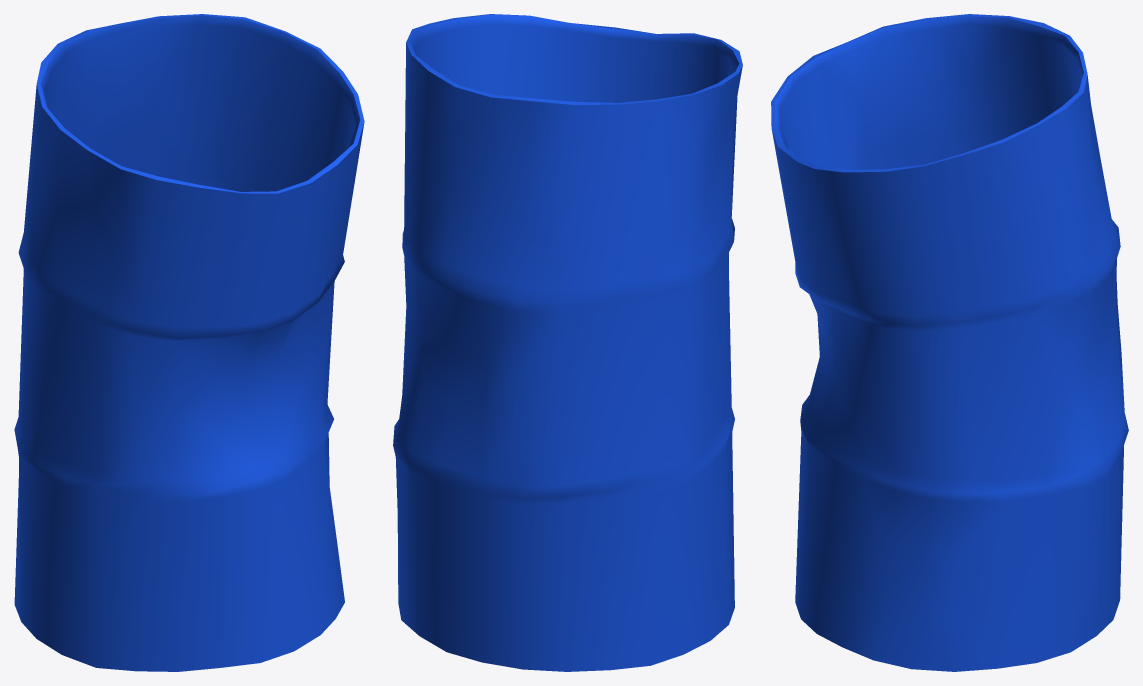
File: barrel_open_damage3.fbx
The picture shows the model from 3 angles, left to right: view 1: azimuth 30°, elevation 25°; view 2: azimuth 150°, elevation 25°; view 3: azimuth 270°, elevation 25°; orthographic projection. The views are drawn at different scales.
Visible parts, largest first — view 1: barrel_open_damage3; view 2: barrel_open_damage3; view 3: barrel_open_damage3.
Part boxes in pixels (x1,y1,x2,y2): barrel_open_damage3: [14, 14, 364, 671]; barrel_open_damage3: [393, 14, 742, 671]; barrel_open_damage3: [771, 14, 1128, 671].
Bounding box in the file's own units: 50.69 × 90.55 × 54.32.
